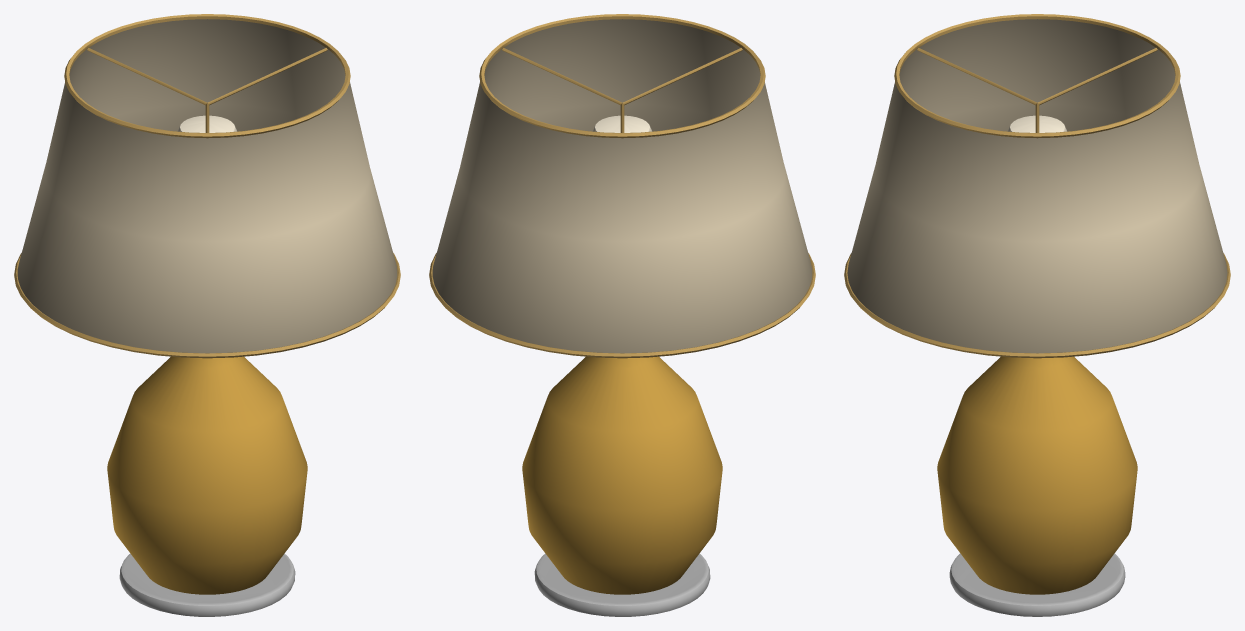
Rendered from lamp.glb.
3 views of the same model, side by side, from view 1: azimuth 30°, elevation 25°; view 2: azimuth 150°, elevation 25°; view 3: azimuth 270°, elevation 25° (orthographic).
Visible parts, largest first — view 1: Shade, Body, Bulb; view 2: Shade, Body, Bulb; view 3: Shade, Body, Bulb.
Part boxes in pixels (box(x1,y1,x2,y2)): Shade: box(17, 19, 397, 353); Body: box(14, 14, 400, 616); Bulb: box(177, 115, 237, 132); Shade: box(432, 19, 812, 353); Body: box(429, 14, 815, 616); Bulb: box(592, 115, 652, 132); Shade: box(847, 19, 1227, 353); Body: box(844, 14, 1230, 616); Bulb: box(1007, 115, 1067, 132).
Bounding box in the file's own units: 0.3084 × 0.4471 × 0.3084.
